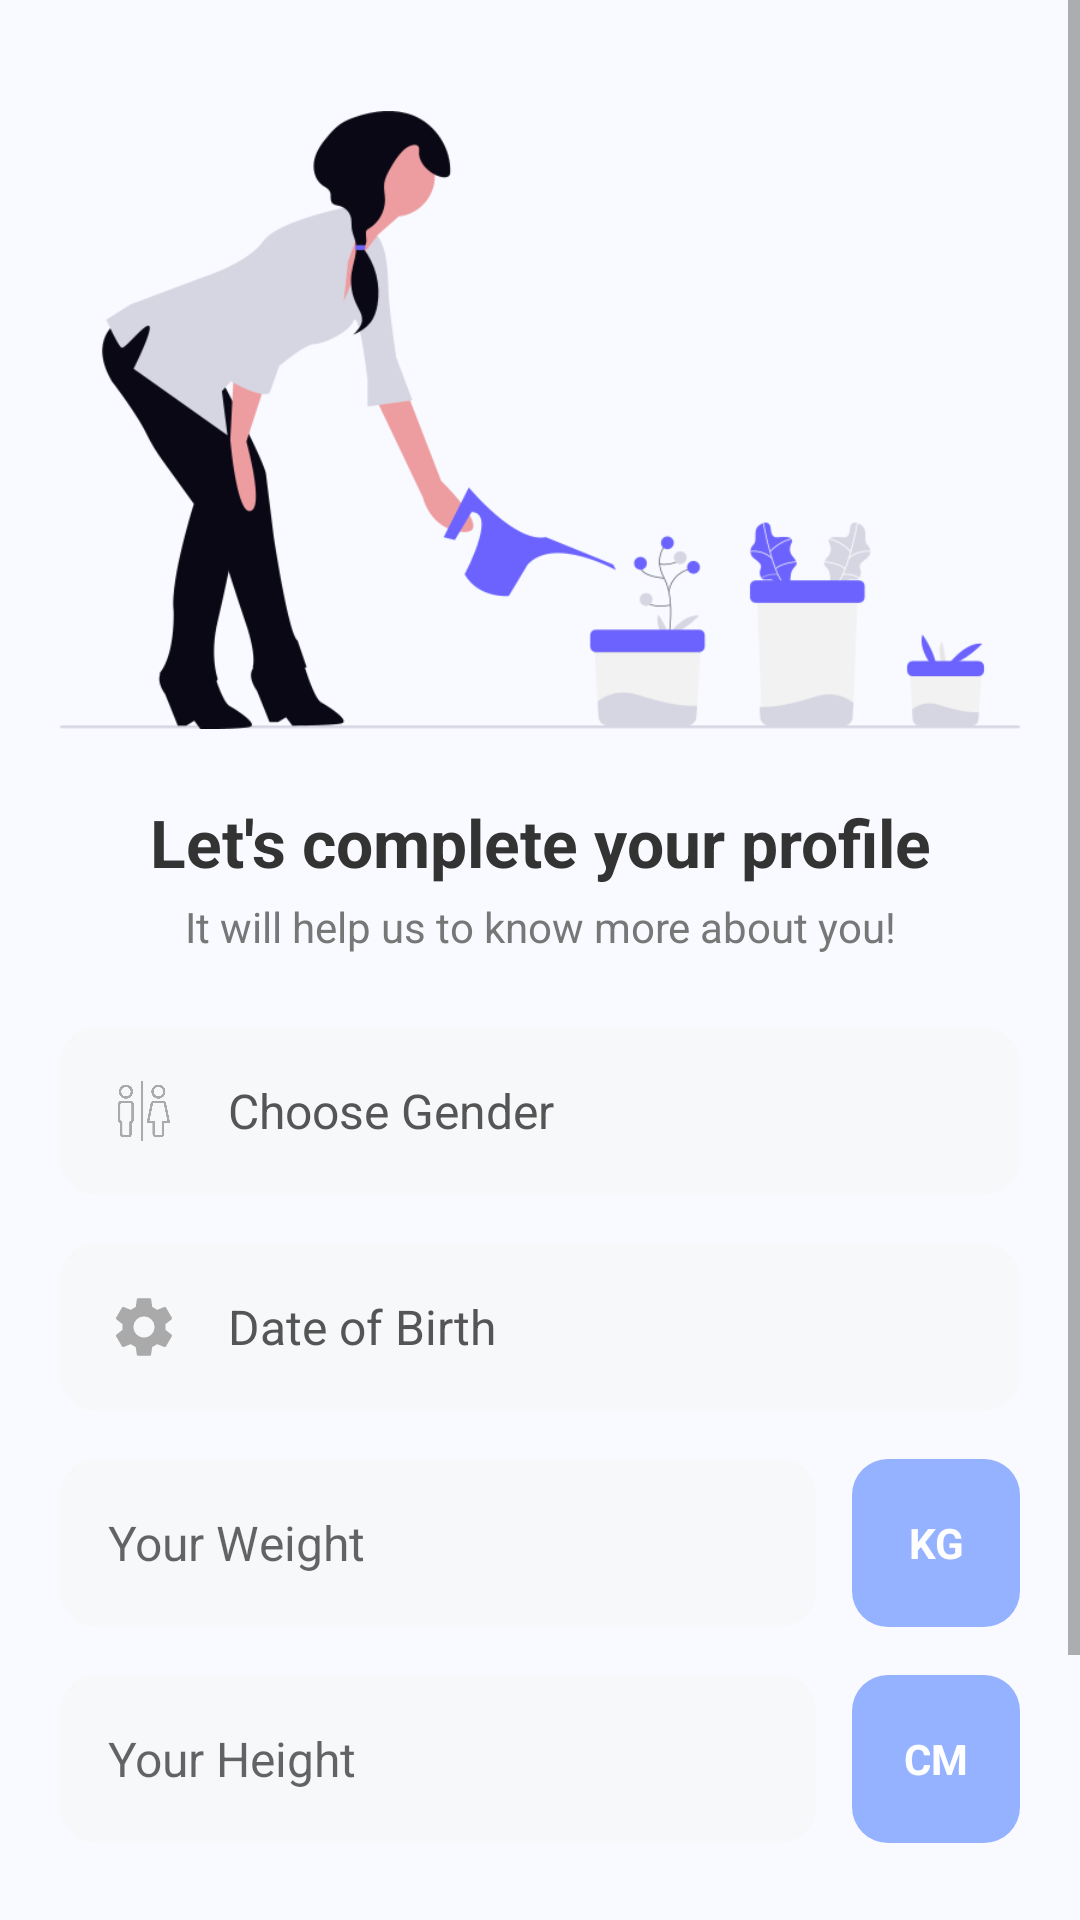

Named icons in this screenshot (1080x1920) and their bounding boxes, (x1, y1, x2, y2):
settings edit: (116, 1298, 172, 1356)
